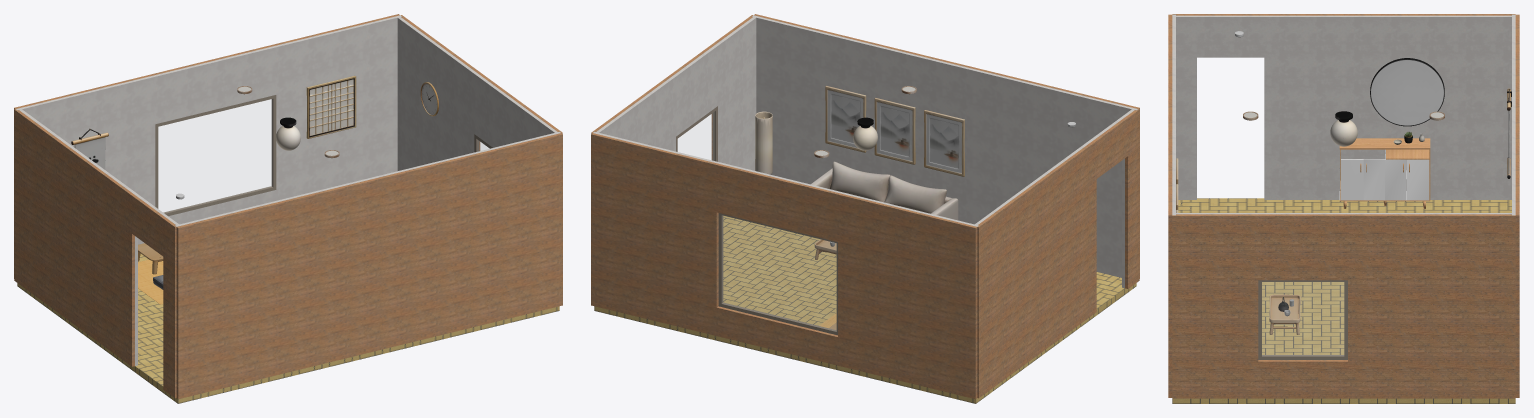
File: scene_web.glb
The picture shows the model from 3 angles, left to right: view 1: azimuth 30°, elevation 25°; view 2: azimuth 150°, elevation 25°; view 3: azimuth 270°, elevation 25°; orthographic projection. The views are drawn at different scales.
Parts seen in each view (by area): view 1: geometry_0.003, geometry_0, geometry_0.007, geometry_0.004, glass, Mesh_0, geometry_0.018, frame, geometry_0.001, geometry_0.006, geometry_0.002, Mesh_0.001 (+4 smaller); view 2: geometry_0.001, geometry_0.002, geometry_0.007, Mesh_0, geometry_0.004, glass, geometry_0.008, geometry_0.015, geometry_0.016, geometry_0.014, frame, glass.001 (+6 smaller); view 3: geometry_0.005, geometry_0.006, Mesh_0, glass.001, geometry_0.020, geometry_0.001, geometry_0.003, frame.001, P_a4732598bed78f1f.001, P_c3cdf94f3559971f.001, P_9b74e0249e4d22aa.001, geometry_0.010 (+8 smaller).
Boxes of the visible parts, left/top/right/bottom form: geometry_0.003: left=176, top=133, right=562, bottom=399; geometry_0: left=16, top=15, right=401, bottom=244; geometry_0.007: left=14, top=109, right=176, bottom=398; geometry_0.004: left=397, top=17, right=557, bottom=170; glass: left=158, top=99, right=271, bottom=212; Mesh_0: left=17, top=254, right=559, bottom=403; geometry_0.018: left=306, top=75, right=356, bottom=138; frame: left=155, top=95, right=276, bottom=216; geometry_0.001: left=14, top=14, right=399, bottom=278; geometry_0.006: left=19, top=109, right=178, bottom=365; geometry_0.002: left=175, top=132, right=560, bottom=226; Mesh_0.001: left=138, top=259, right=163, bottom=304; geometry_0.001: left=591, top=133, right=977, bottom=399; geometry_0.002: left=752, top=15, right=1137, bottom=277; geometry_0.007: left=977, top=109, right=1139, bottom=398; Mesh_0: left=594, top=215, right=1136, bottom=403; geometry_0.004: left=596, top=17, right=756, bottom=170; glass: left=723, top=216, right=836, bottom=330; geometry_0.008: left=810, top=161, right=958, bottom=220; geometry_0.015: left=874, top=97, right=915, bottom=164; geometry_0.016: left=924, top=110, right=964, bottom=176; geometry_0.014: left=825, top=85, right=866, bottom=152; frame: left=718, top=213, right=837, bottom=335; glass.001: left=678, top=112, right=714, bottom=160; geometry_0.005: left=1172, top=214, right=1515, bottom=398; geometry_0.006: left=1176, top=15, right=1511, bottom=199; Mesh_0: left=1172, top=198, right=1515, bottom=403; glass.001: left=1262, top=282, right=1343, bottom=355; geometry_0.020: left=1370, top=58, right=1444, bottom=126; geometry_0.001: left=1515, top=14, right=1519, bottom=397; geometry_0.003: left=1168, top=14, right=1172, bottom=397; frame.001: left=1258, top=280, right=1347, bottom=359; P_a4732598bed78f1f.001: left=1339, top=138, right=1430, bottom=200; P_c3cdf94f3559971f.001: left=1406, top=159, right=1429, bottom=200; P_9b74e0249e4d22aa.001: left=1341, top=159, right=1363, bottom=200; geometry_0.010: left=1269, top=294, right=1300, bottom=334.
Bounding box in the file's own units: 6.4 × 2.8 × 4.7.
34 materials, 29 textured.
